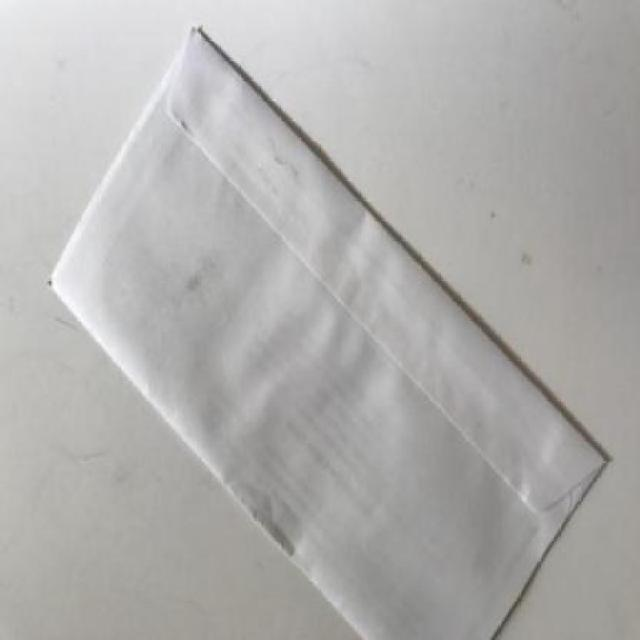giay: (44, 23, 616, 640)
